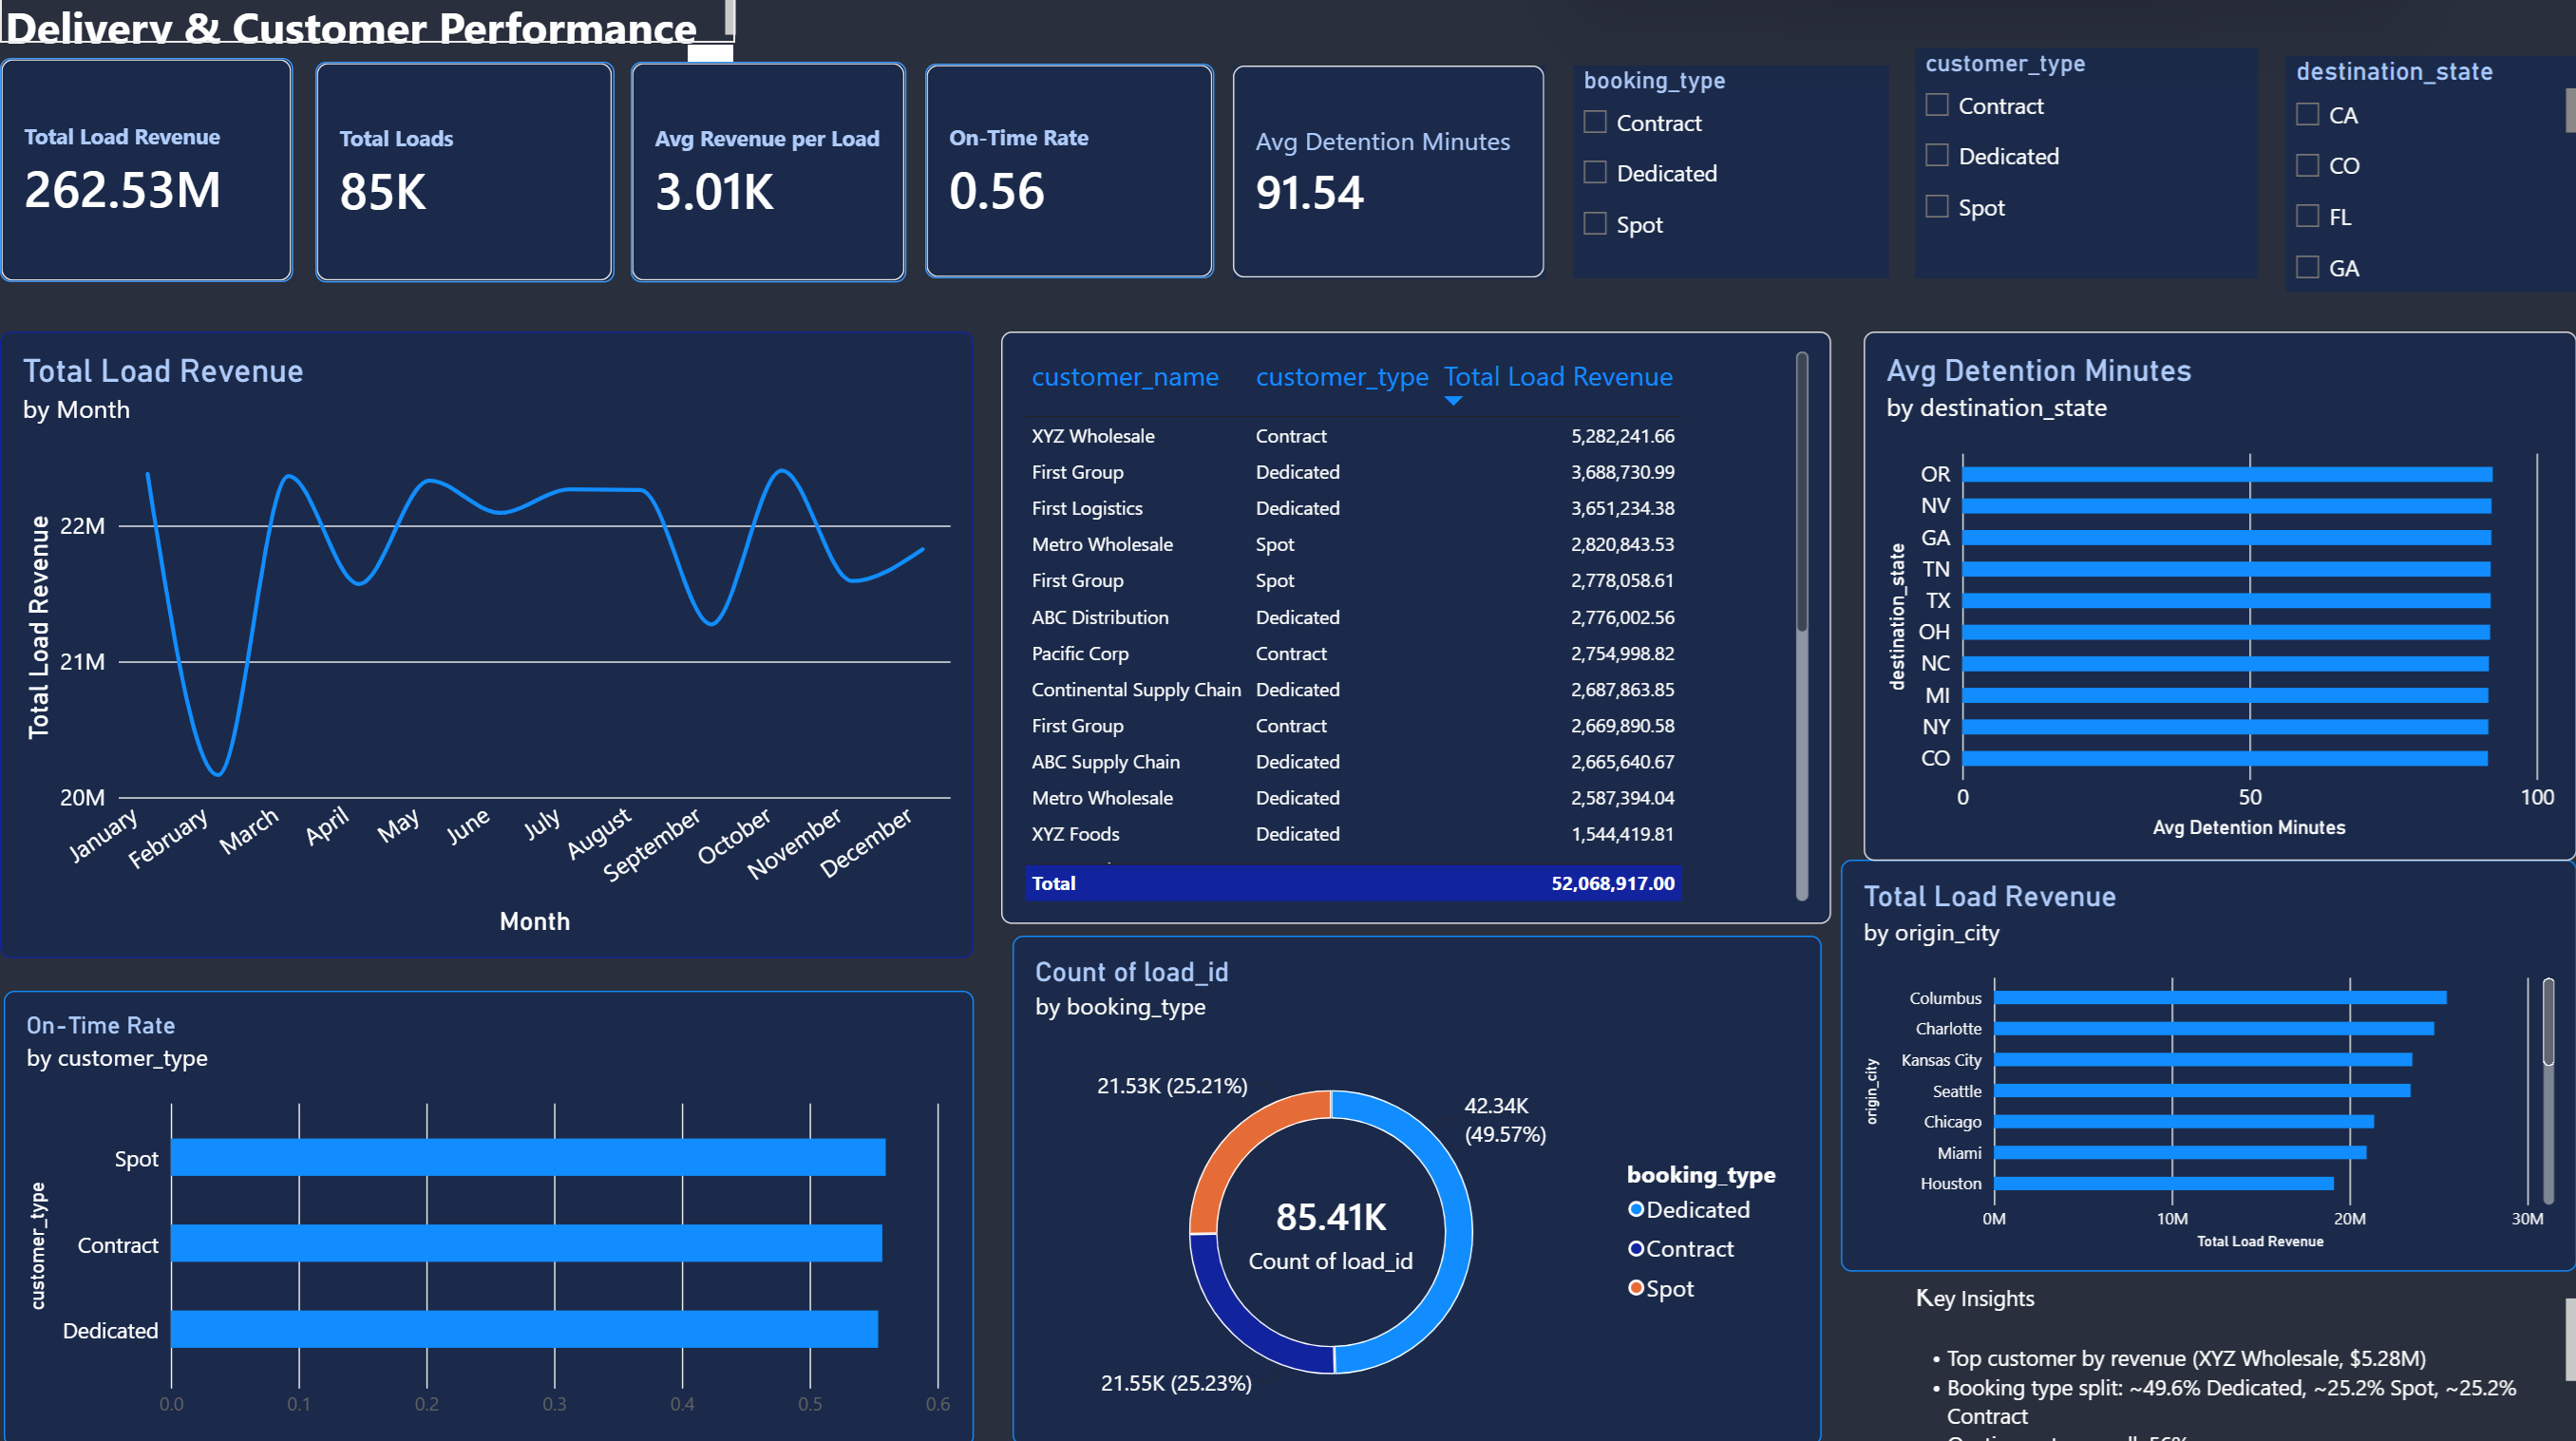

The page's visual inventory and layout, read from the dashboard file:
{"tool":"powerbi","page":{"name":"Page 2","canvas":[1920,1080],"ordinal":1},"visuals":[{"type":"textbox","box":[0,0,548.6,34.3],"z":0},{"type":"cardVisual","fields":{"Data":["loads.Total Load Revenue"]},"box":[0,45.7,218.6,167.1],"z":1000},{"type":"cardVisual","fields":{"Data":["loads.Total Loads"]},"box":[235.7,48.6,222.9,164.3],"z":2000},{"type":"cardVisual","fields":{"Data":["loads.Avg Revenue per Load"]},"box":[470,48.6,205.7,164.3],"z":3000},{"type":"cardVisual","fields":{"Data":["delivery_events.On-Time Rate"]},"box":[690,50,215.7,160],"z":4000},{"type":"slicer","fields":{"Values":["customers.customer_type"]},"box":[1427.1,38.6,255.7,171.4],"z":5000},{"type":"slicer","fields":{"Values":["loads.booking_type"]},"box":[1172.1,51.4,235.7,158.6],"z":6000},{"type":"slicer","fields":{"Values":["routes.destination_state"]},"box":[1702.9,44.3,217.1,175.7],"z":7000},{"type":"lineChart","fields":{"Category":["loads.load_date.Variation.Date Hierarchy.Month"],"Y":["loads.Total Load Revenue"]},"box":[0,248.6,725.7,467.1],"z":8000},{"type":"clusteredBarChart","fields":{"Category":["customers.customer_type"],"Y":["delivery_events.On-Time Rate"]},"box":[2.9,740,722.9,340],"z":9000},{"type":"tableEx","fields":{"Values":["customers.customer_name","customers.customer_type","loads.Total Load Revenue"]},"box":[745.7,248.6,618.6,441.4],"z":10000},{"type":"donutChart","fields":{"Category":["loads.booking_type"],"Y":["CountNonNull(loads.load_id)"]},"box":[754.3,700,602.9,380],"z":11000},{"type":"barChart","fields":{"Category":["routes.origin_city","routes.destination_city"],"Y":["loads.Total Load Revenue"]},"box":[1371.4,642.9,548.6,307.1],"z":12000},{"type":"textbox","box":[1427.1,962.9,492.9,117.1],"z":13000},{"type":"cardVisual","fields":{"Data":["delivery_events.Avg Detention Minutes"]},"box":[918.5,50.5,232.8,158.8],"z":14000},{"type":"clusteredBarChart","fields":{"Category":["routes.destination_state"],"Y":["delivery_events.Avg Detention Minutes"]},"box":[1388.6,248.6,531.4,394.3],"z":15000}]}

Visuals, with their boxes in screenshot pixels (x1, y1, x2, y2), scaled from the page's 1920x1080 canvas onto the 2576x1441 screenshot:
textbox: region(0, 0, 736, 46)
cardVisual - loads.Total Load Revenue: region(0, 61, 294, 284)
cardVisual - loads.Total Loads: region(316, 65, 616, 284)
cardVisual - loads.Avg Revenue per Load: region(631, 65, 906, 284)
cardVisual - delivery_events.On-Time Rate: region(926, 66, 1215, 280)
slicer - customers.customer_type: region(1915, 51, 2258, 280)
slicer - loads.booking_type: region(1573, 68, 1889, 280)
slicer - routes.destination_state: region(2284, 59, 2575, 294)
lineChart - loads.load_date.Variation.Date Hierarchy.Month x loads.Total Load Revenue: region(0, 332, 974, 955)
clusteredBarChart - customers.customer_type x delivery_events.On-Time Rate: region(4, 987, 974, 1440)
tableEx - customers.customer_name x customers.customer_type: region(1000, 332, 1830, 920)
donutChart - loads.booking_type x CountNonNull(loads.load_id): region(1012, 934, 1821, 1440)
barChart - routes.origin_city x routes.destination_city: region(1840, 858, 2575, 1267)
textbox: region(1915, 1285, 2575, 1440)
cardVisual - delivery_events.Avg Detention Minutes: region(1232, 67, 1544, 279)
clusteredBarChart - routes.destination_state x delivery_events.Avg Detention Minutes: region(1863, 332, 2575, 858)
